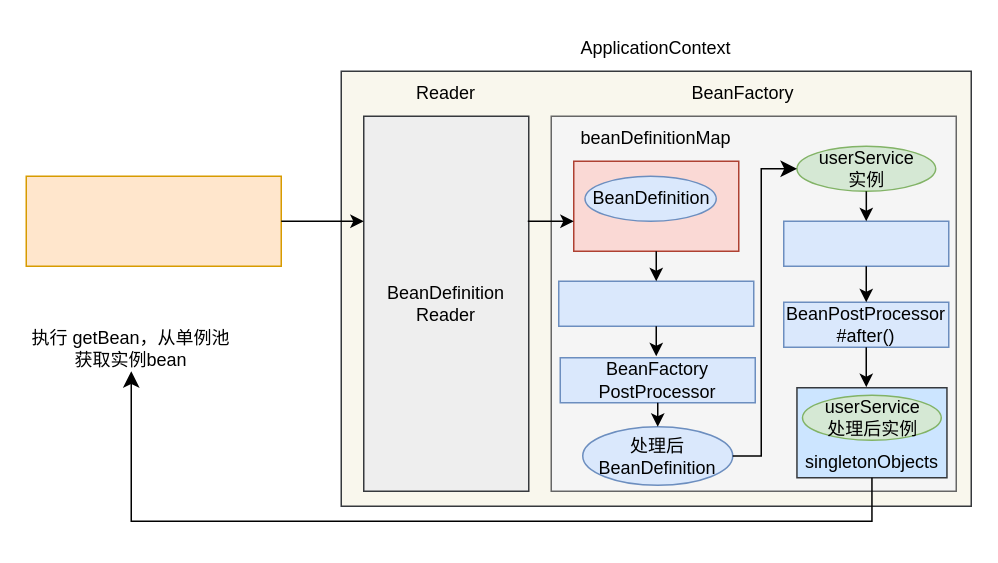
The diagram is 998 pixels wide and 563 high, and some of its shapes have lost their labels. Each missing label, with the box of its shape:
<bean id="userService" class="com.UserService"></bean>: (25, 175, 281, 266)
BeanDefinition RegistryPostProcessor: (557, 280, 754, 326)
BeanPostProcessor #before(): (782, 220, 949, 266)
